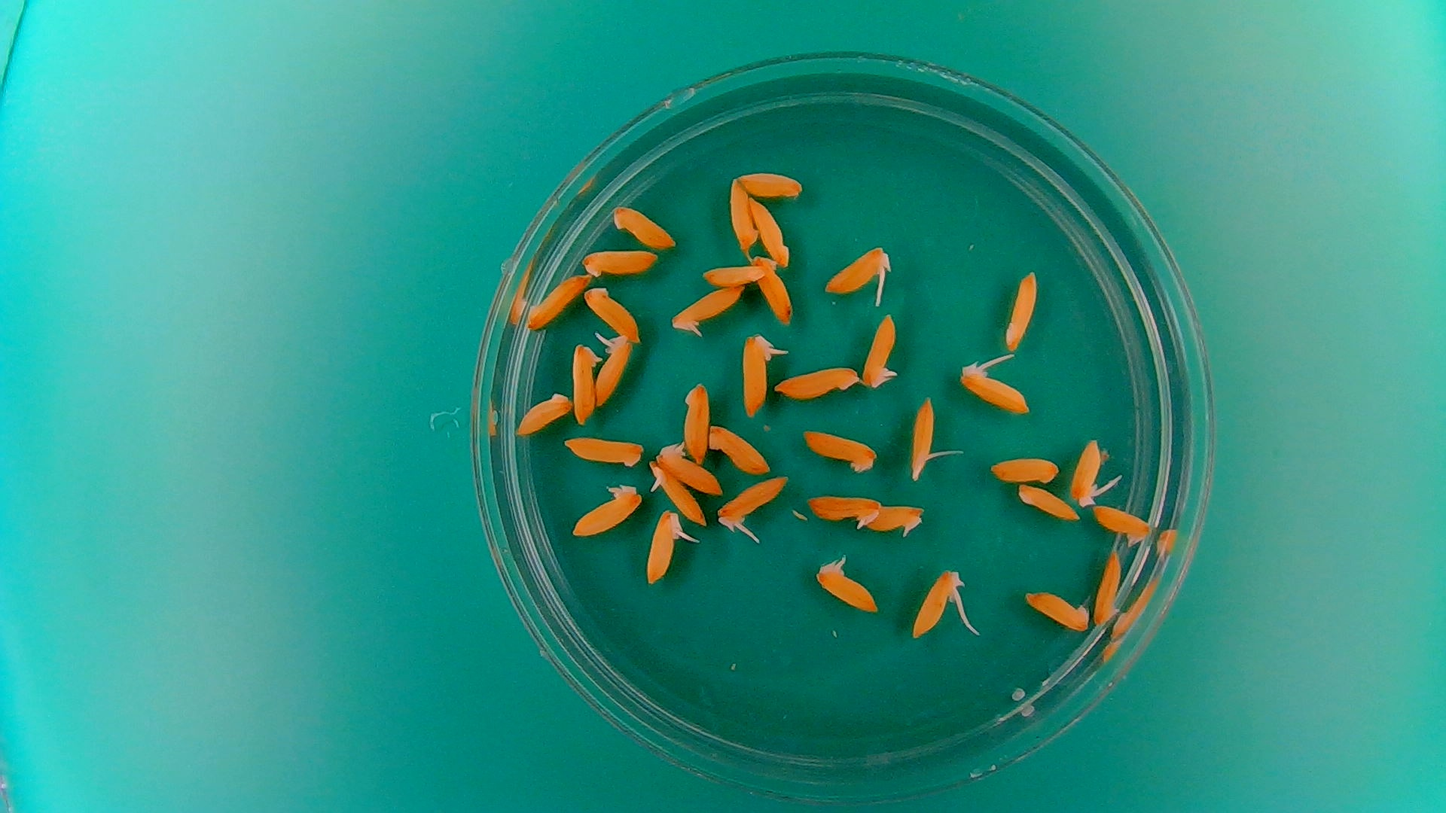no: (569, 480, 645, 540), (798, 425, 880, 475), (523, 271, 590, 330), (581, 282, 643, 343), (770, 361, 862, 401), (706, 422, 772, 476), (609, 201, 678, 250), (747, 194, 792, 268), (1002, 266, 1040, 353), (1020, 587, 1091, 633), (559, 433, 646, 470), (514, 388, 574, 437), (580, 245, 660, 280), (1091, 502, 1153, 547), (679, 379, 712, 463), (570, 339, 602, 425), (698, 254, 776, 288), (1014, 482, 1079, 522), (1091, 546, 1123, 627), (988, 453, 1063, 486), (727, 175, 758, 253), (736, 168, 806, 199)
yes: (715, 470, 796, 550), (668, 282, 749, 340), (739, 329, 790, 419), (813, 552, 883, 616), (908, 566, 966, 639), (645, 458, 706, 527), (652, 440, 726, 496), (819, 242, 894, 297), (958, 363, 1033, 416), (642, 507, 689, 587), (860, 309, 901, 391), (593, 332, 636, 409), (807, 491, 883, 530), (1068, 431, 1106, 508), (909, 392, 940, 483), (853, 501, 926, 537)
